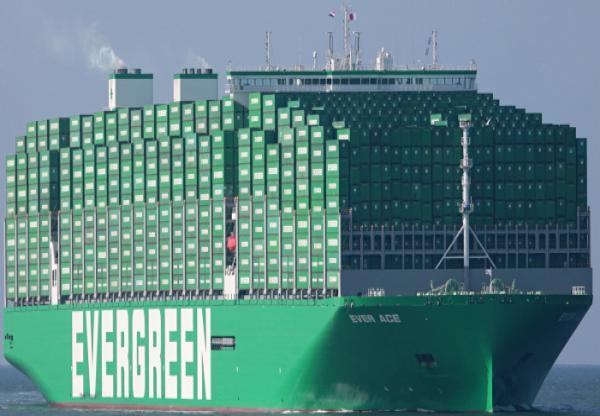Container Ship: (1, 4, 594, 415)
